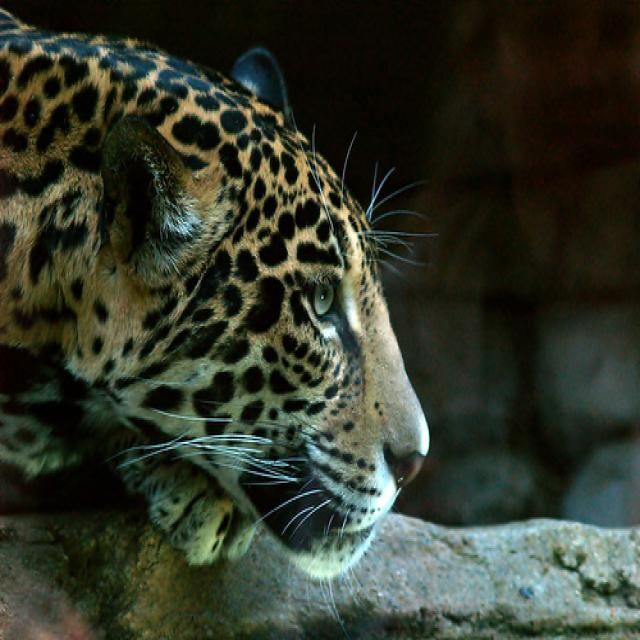Leopard: (0, 11, 434, 580)
